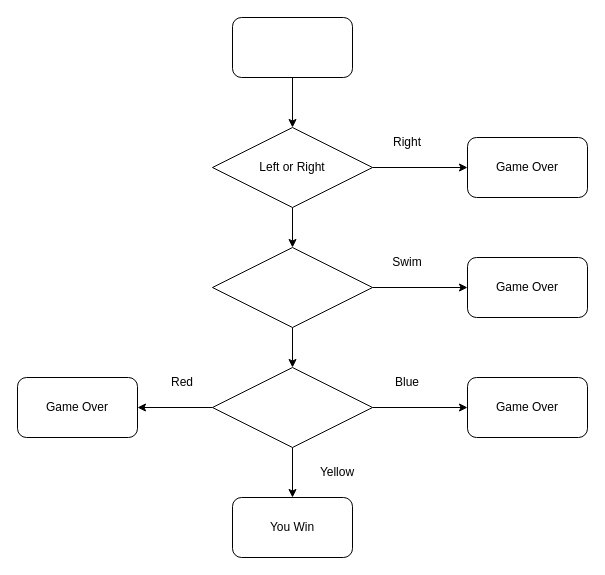
The diagram is 605 pixels wide and 575 high, and some of its shapes have lost their labels. Each missing label, with the box of its shape:
Swim or Wait: (212, 246, 372, 328)
Welcome to Treasure Island. Your mission is to find the treasur: (232, 16, 352, 78)
Which Door: (212, 366, 372, 448)
